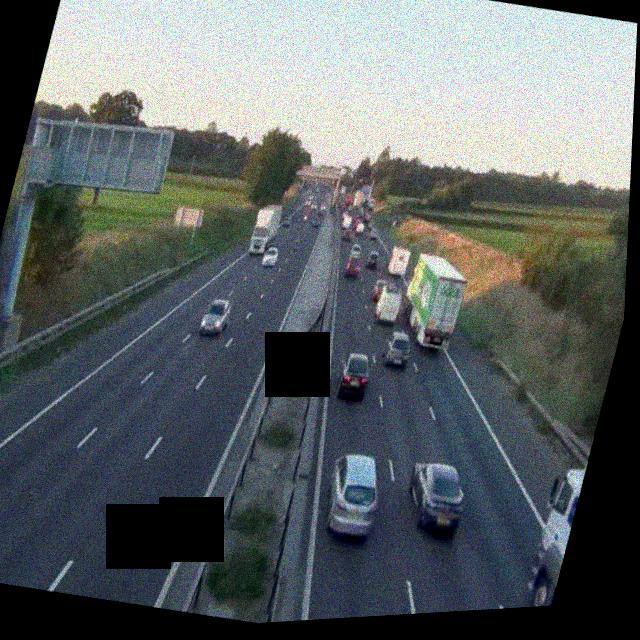bus: (384, 244, 412, 280)
car: (318, 448, 389, 541), (398, 456, 473, 539), (334, 349, 375, 401), (198, 295, 233, 338), (380, 327, 414, 368), (366, 277, 390, 311), (261, 244, 280, 267), (342, 255, 361, 278), (364, 248, 381, 270), (341, 226, 354, 242), (368, 225, 378, 239), (311, 214, 321, 227), (282, 214, 292, 227), (317, 203, 326, 215)
truck: (516, 440, 592, 608), (393, 249, 473, 353), (247, 201, 283, 257), (350, 190, 365, 211)
